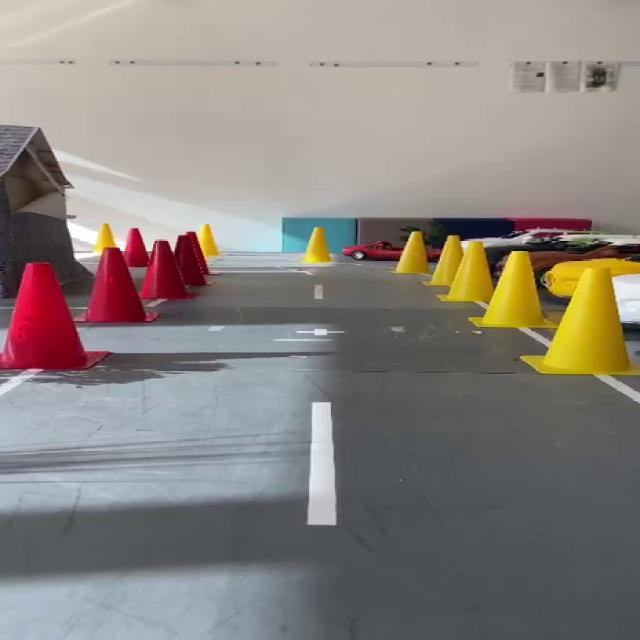Cone-red: (0, 263, 109, 372), (80, 248, 156, 323), (142, 240, 189, 299), (175, 232, 207, 286), (123, 228, 149, 268)
Cones-yellow: (521, 269, 639, 375), (476, 251, 553, 328), (440, 241, 492, 303), (425, 235, 462, 287), (392, 231, 428, 274), (303, 227, 330, 263), (197, 225, 221, 259)
